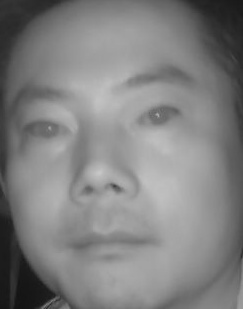eye: (21, 112, 75, 145), (135, 103, 187, 135)
mouth: (63, 213, 155, 266)
